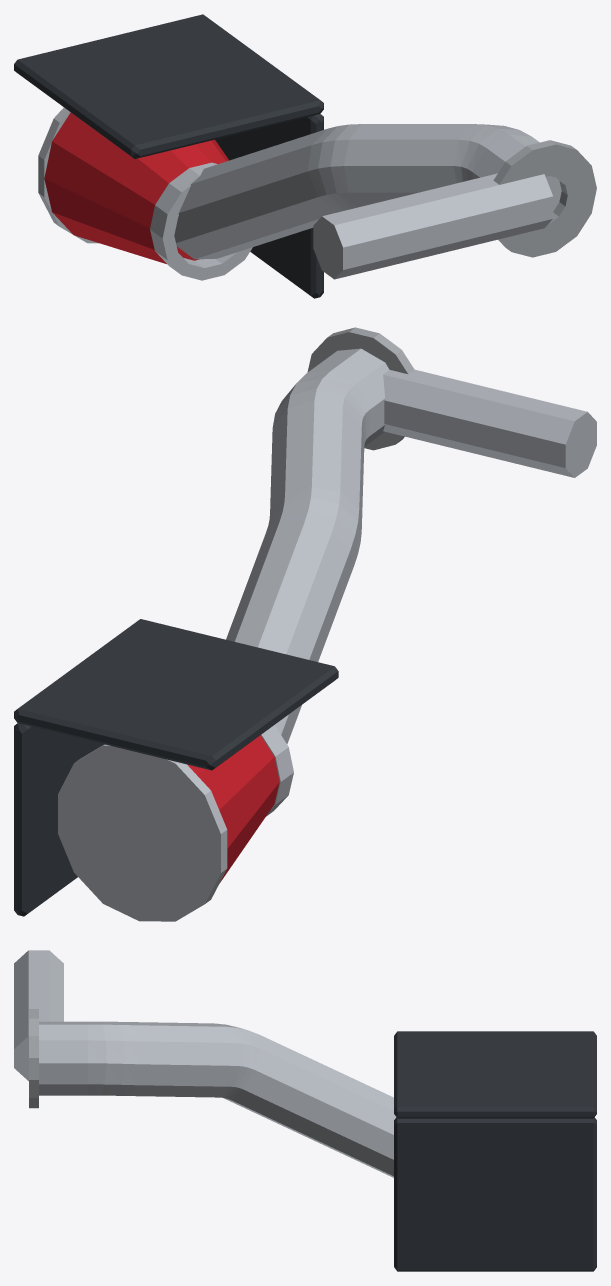
File: apex_v8.glb
3 renders of one model, top to bottom at view 1: azimuth 30°, elevation 25°; view 2: azimuth 150°, elevation 25°; view 3: azimuth 270°, elevation 25°, orthographic. The views are drawn at different scales.
Visible parts, largest first — view 1: model; view 2: model; view 3: model.
Part boxes in pixels (x1=…): model: x1=14, y1=14, x2=596, y2=298; model: x1=14, y1=327, x2=596, y2=921; model: x1=14, y1=950, x2=596, y2=1271.
Bounding box in the file's own units: 0.3 × 0.3386 × 0.6896.
Materials: 2 (1 with a texture image).
